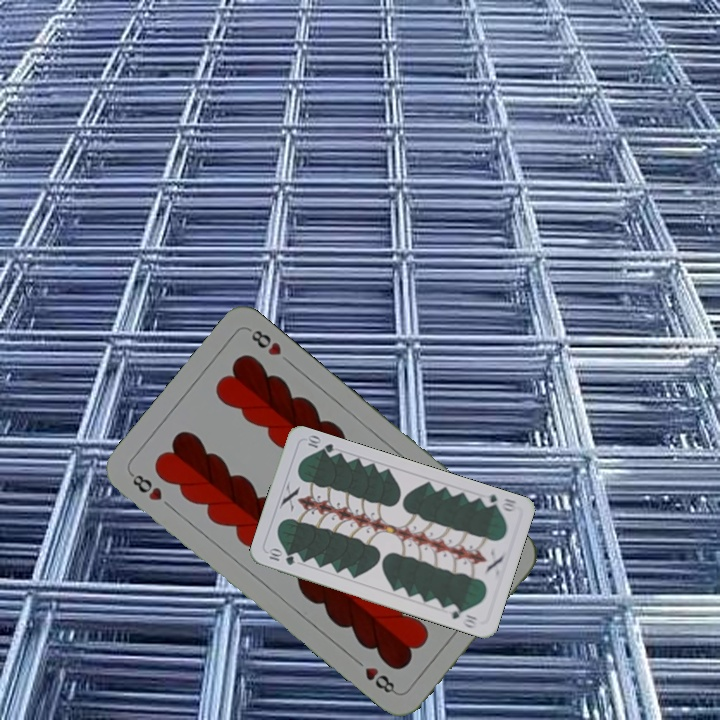G10: (478, 490, 519, 514), (264, 545, 297, 568)
H8: (126, 469, 165, 504)
